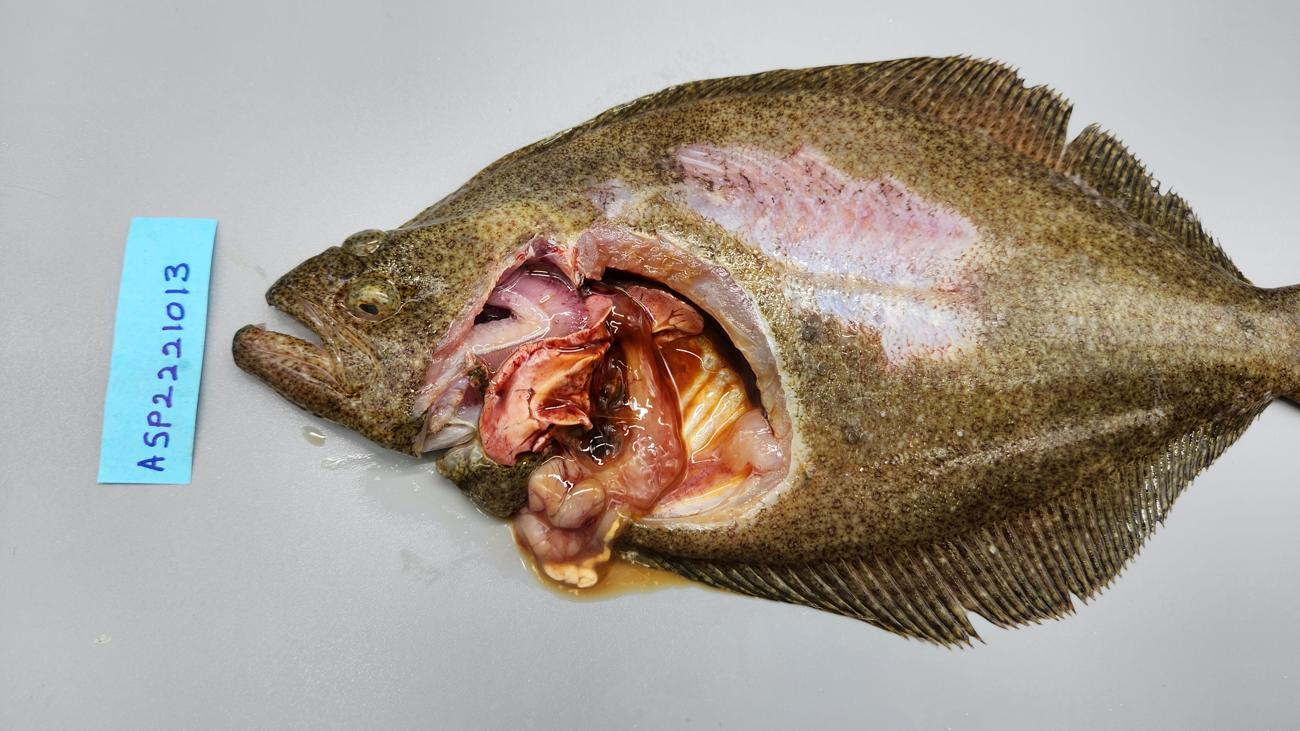SPINI: (526, 443, 636, 524)
